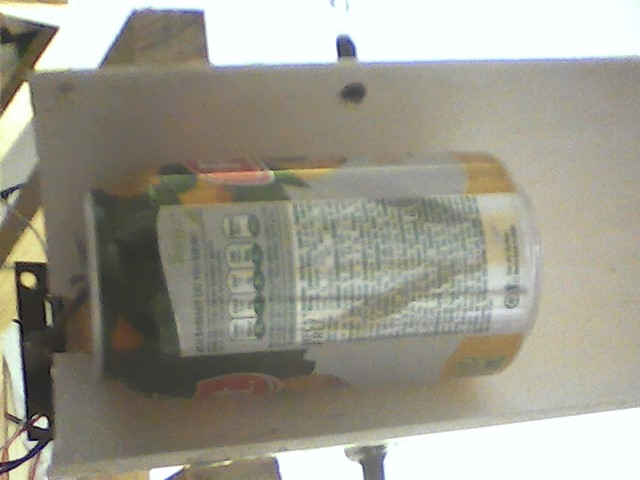lata: (72, 148, 550, 410)
